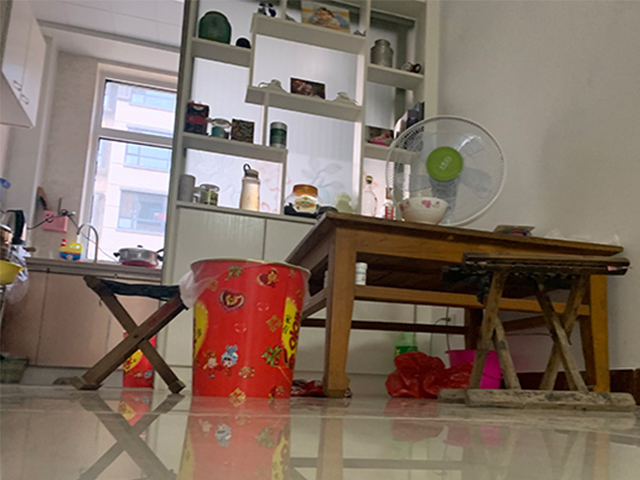cabinet: (154, 200, 436, 394), (3, 258, 162, 385)
stool: (438, 251, 640, 415), (73, 276, 188, 395)
table: (285, 211, 623, 399)
trashcan: (187, 258, 310, 397), (120, 331, 156, 388)
